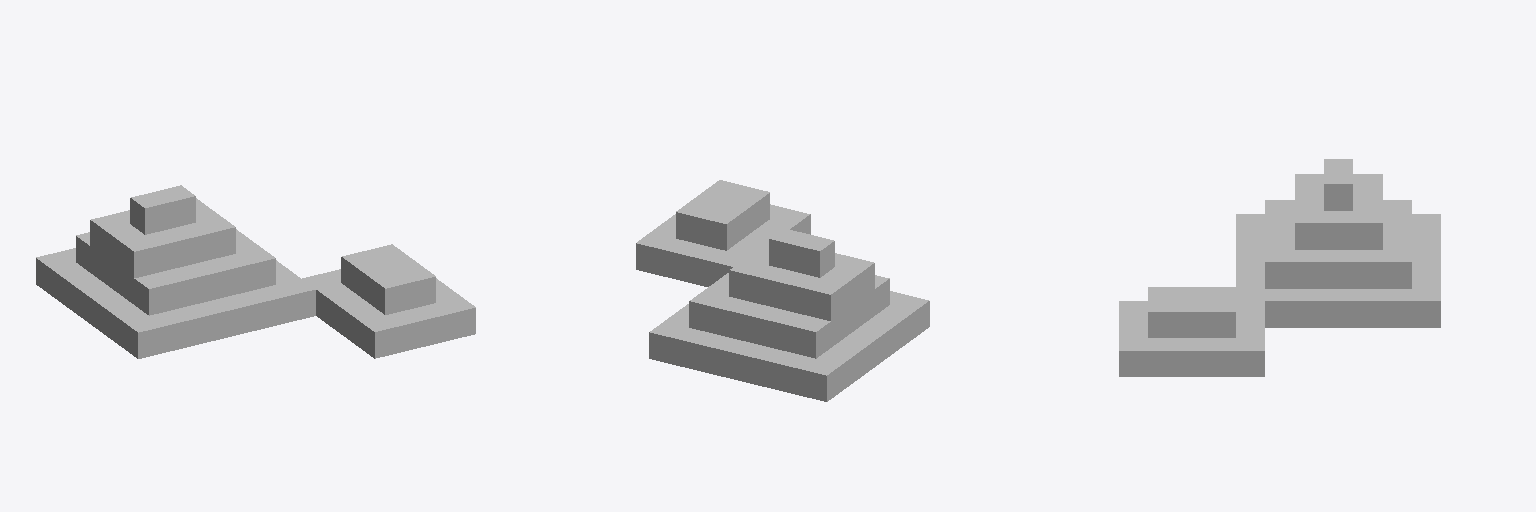
Rendered from Rocks1.obj.
3 renders of one model, left to right at view 1: azimuth 30°, elevation 25°; view 2: azimuth 150°, elevation 25°; view 3: azimuth 270°, elevation 25°, orthographic.
Parts seen in each view (by area): view 1: object 1; view 2: object 1; view 3: object 1.
Boxes of the visible parts, x1,y1,x2,y2 form: object 1: [36, 185, 475, 358]; object 1: [636, 180, 929, 401]; object 1: [1119, 159, 1440, 376].
Size of the model in its own units: 1.1 by 0.4 by 1.1.